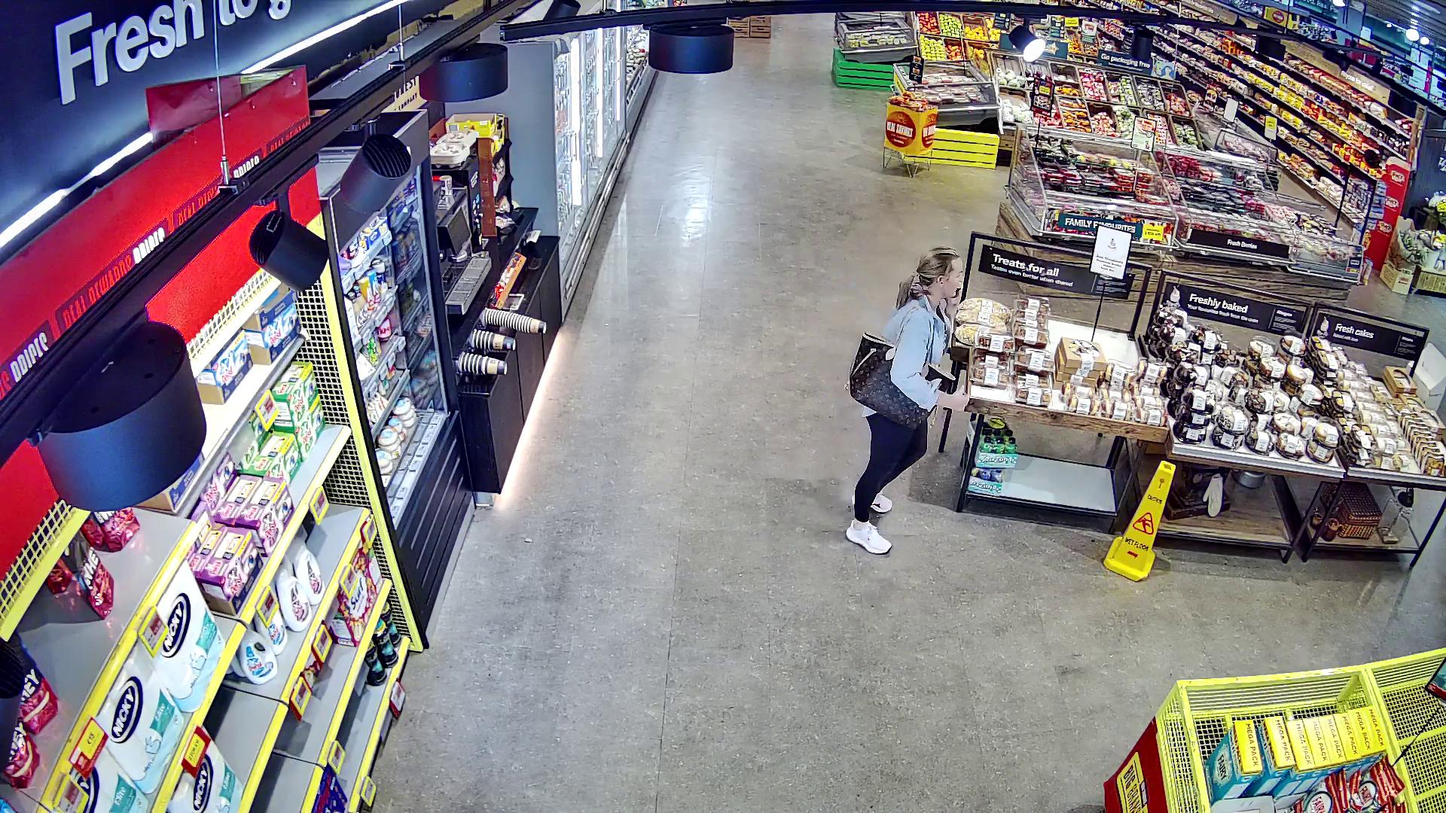backpack-or-handbag: (846, 329, 956, 429)
person: (847, 245, 970, 556)
person-with-backpack-handbag: (847, 244, 971, 553)
